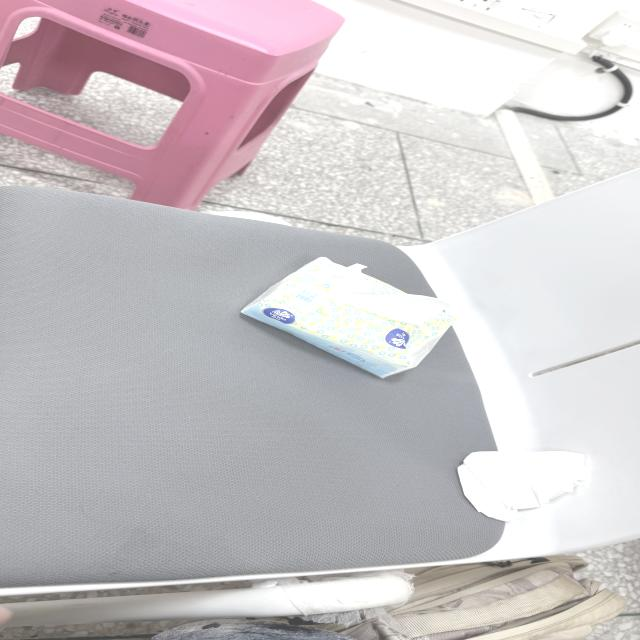tissue: (243, 258, 455, 377), (458, 452, 589, 521), (318, 264, 448, 325)
